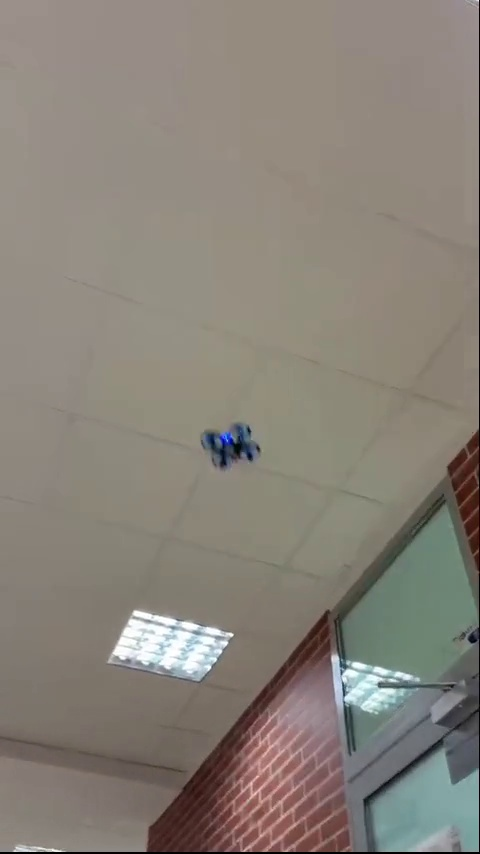drone: (206, 425, 258, 473)
